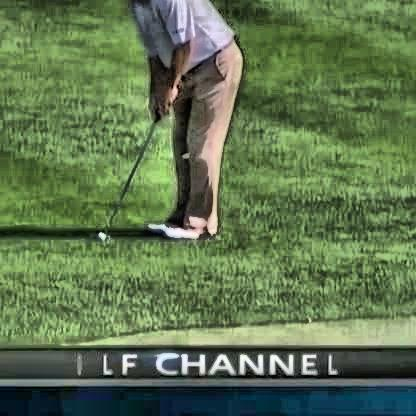golfball: (93, 232, 104, 239)
